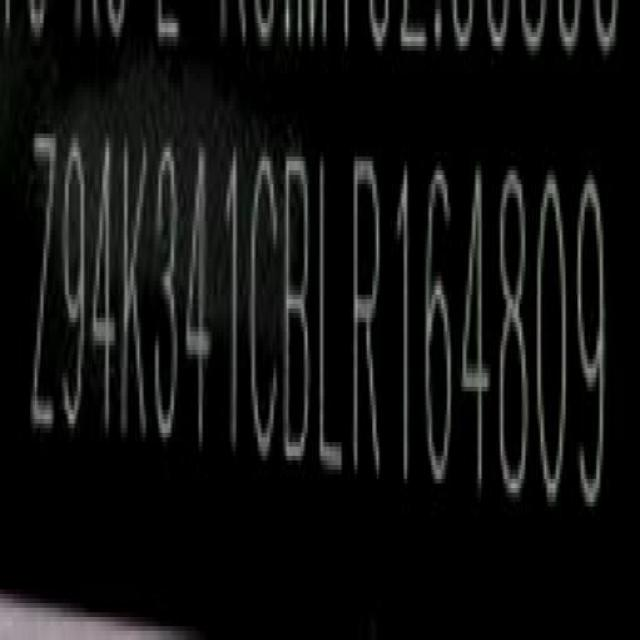0: (537, 170, 571, 513)
1: (219, 147, 243, 464), (395, 152, 415, 491)
3: (155, 140, 182, 457)
4: (458, 163, 490, 506), (185, 142, 214, 461), (92, 128, 118, 448)
6: (426, 155, 456, 498)
8: (500, 164, 531, 508)
9: (576, 173, 608, 514), (60, 134, 86, 450)
B: (284, 144, 314, 476)
C: (248, 146, 280, 468)
K: (120, 132, 149, 450)
L: (318, 151, 345, 485)
R: (352, 151, 385, 490)
Z: (29, 126, 57, 452)
